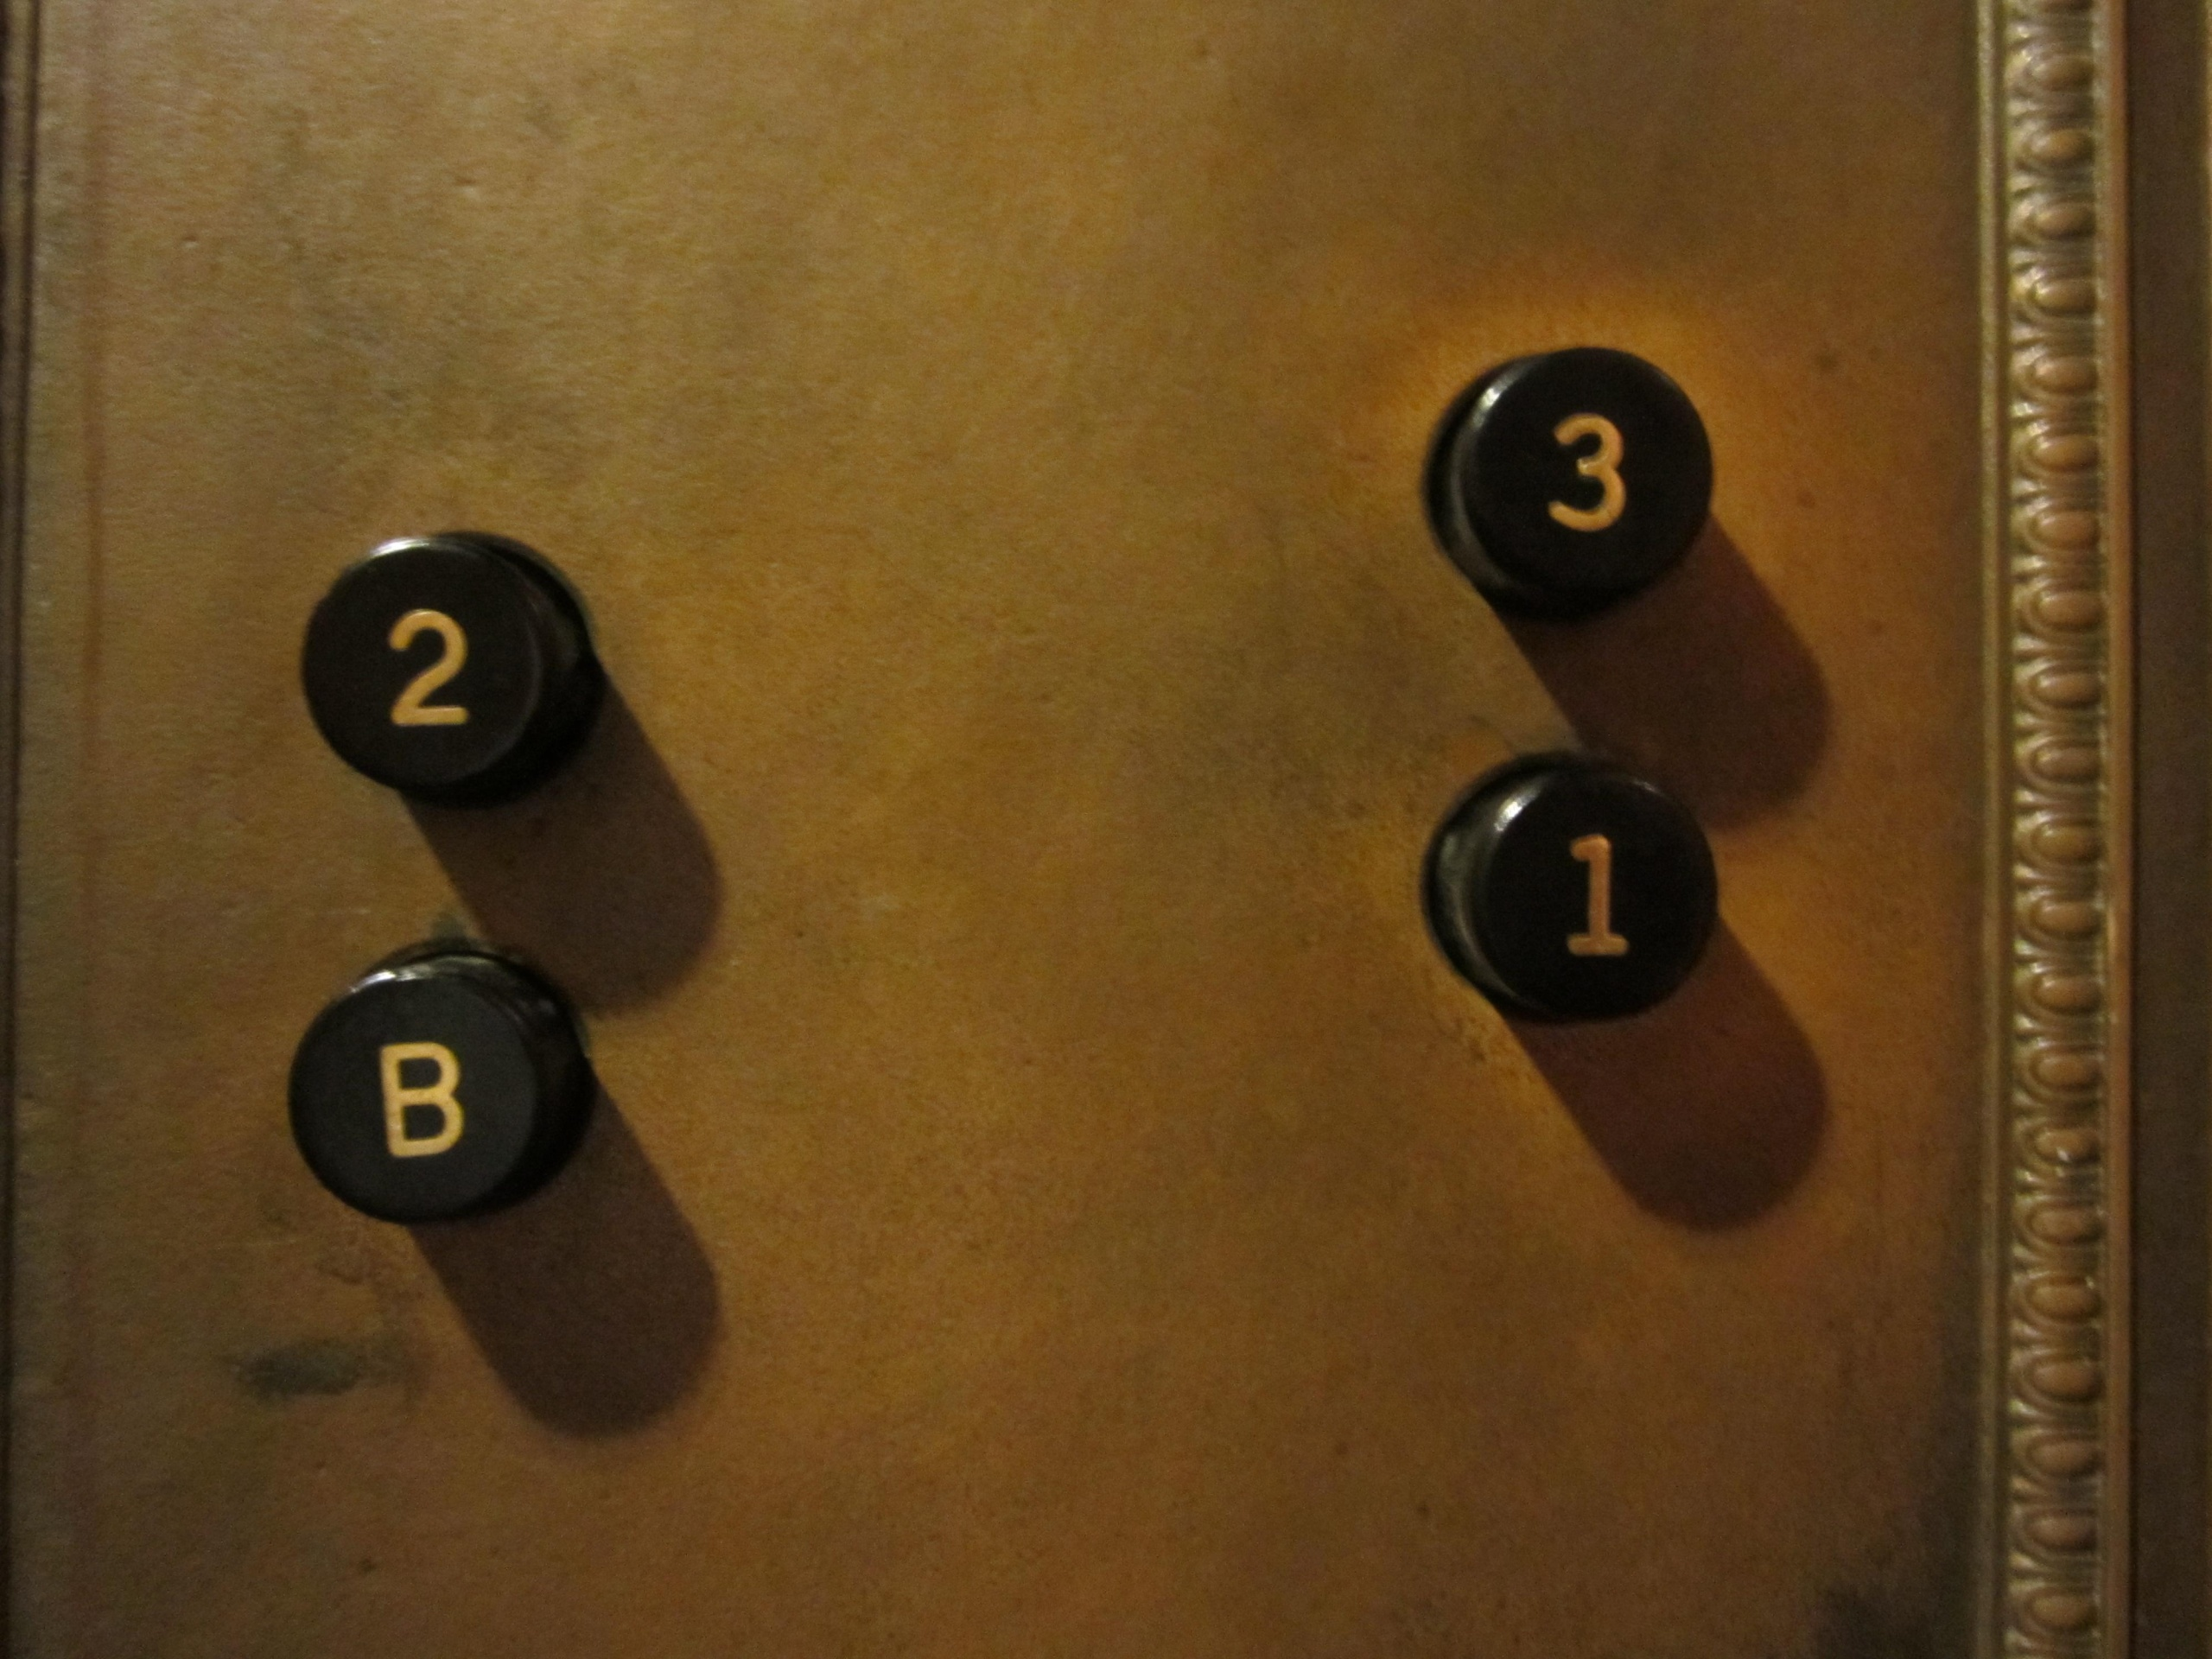1: (1411, 730, 1728, 1040)
2: (293, 519, 610, 824)
3: (1411, 336, 1717, 629)
B: (270, 943, 599, 1236)
